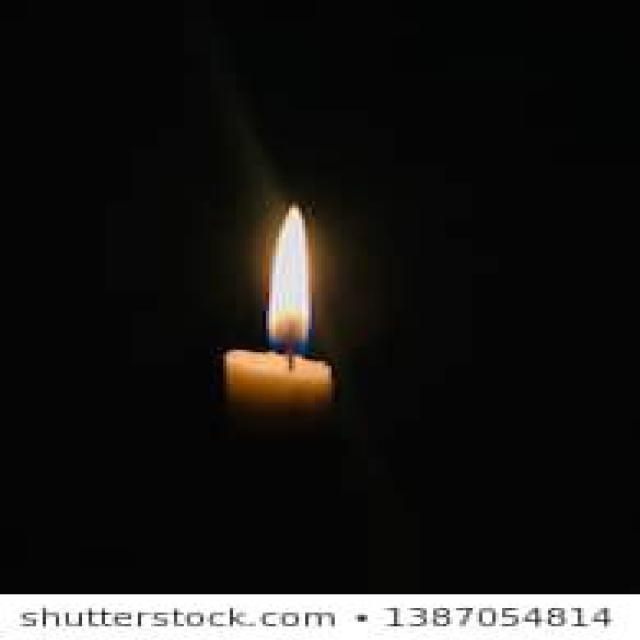Fire: (266, 204, 308, 360)
